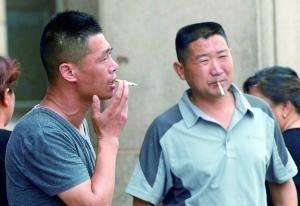smoke: (113, 78, 137, 87), (216, 79, 225, 97)
